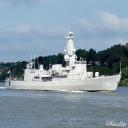Fragata: (6, 31, 125, 95)
